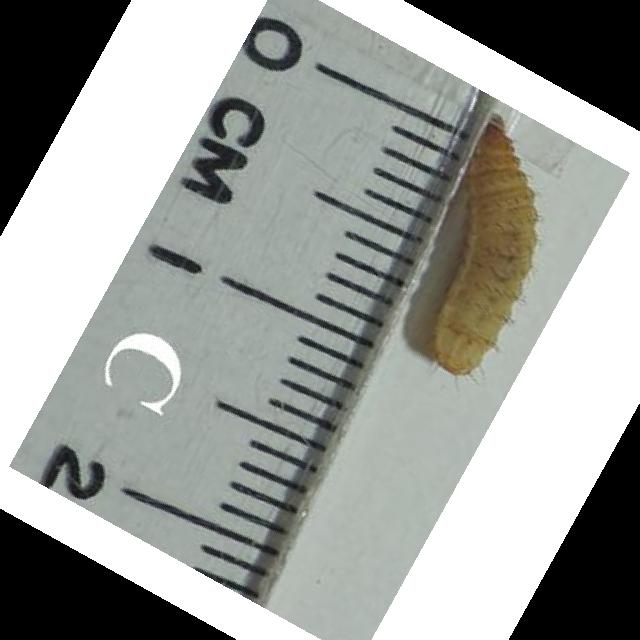Maggot: (429, 119, 548, 376)
